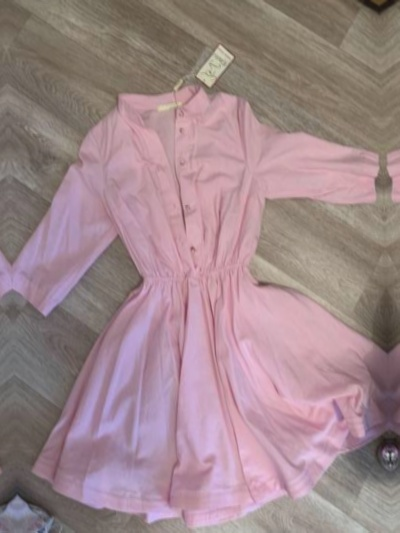Dress: (11, 65, 392, 523), (381, 56, 400, 514), (0, 75, 14, 533)
